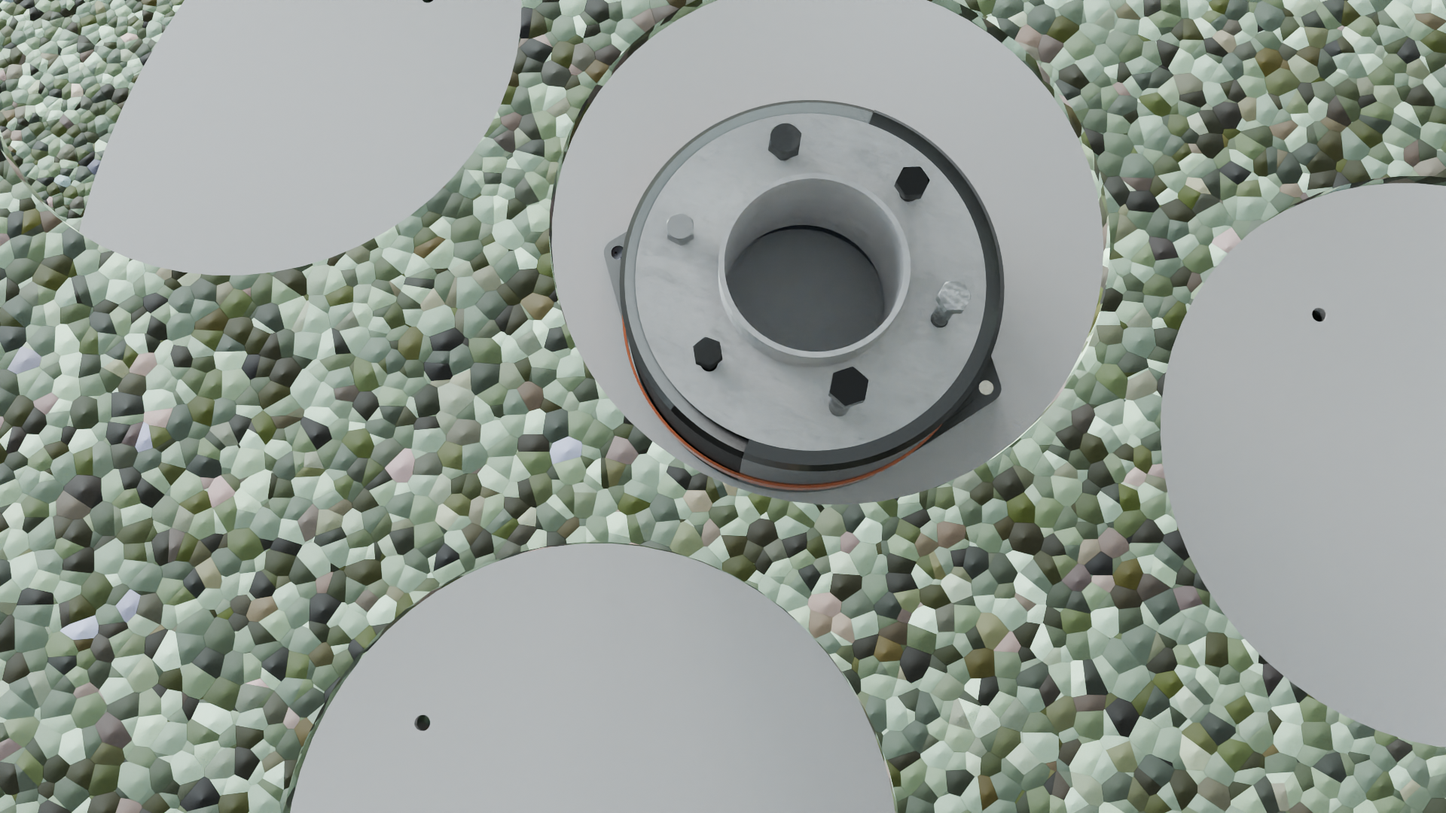bolt: (829, 367, 868, 406), (769, 123, 801, 155), (896, 166, 930, 195), (938, 282, 972, 310), (693, 336, 722, 367), (667, 213, 694, 242)
